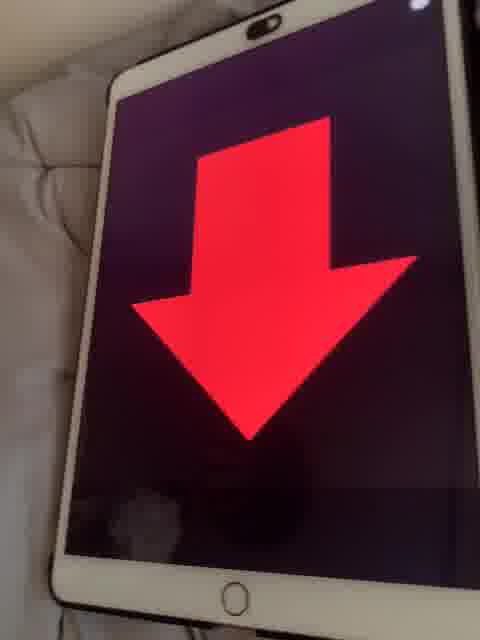down: (131, 111, 422, 448)
